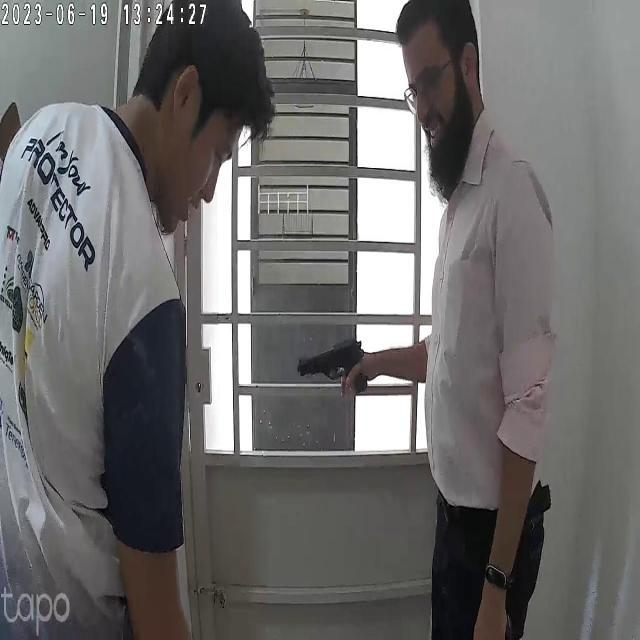Gun: (291, 331, 375, 392)
